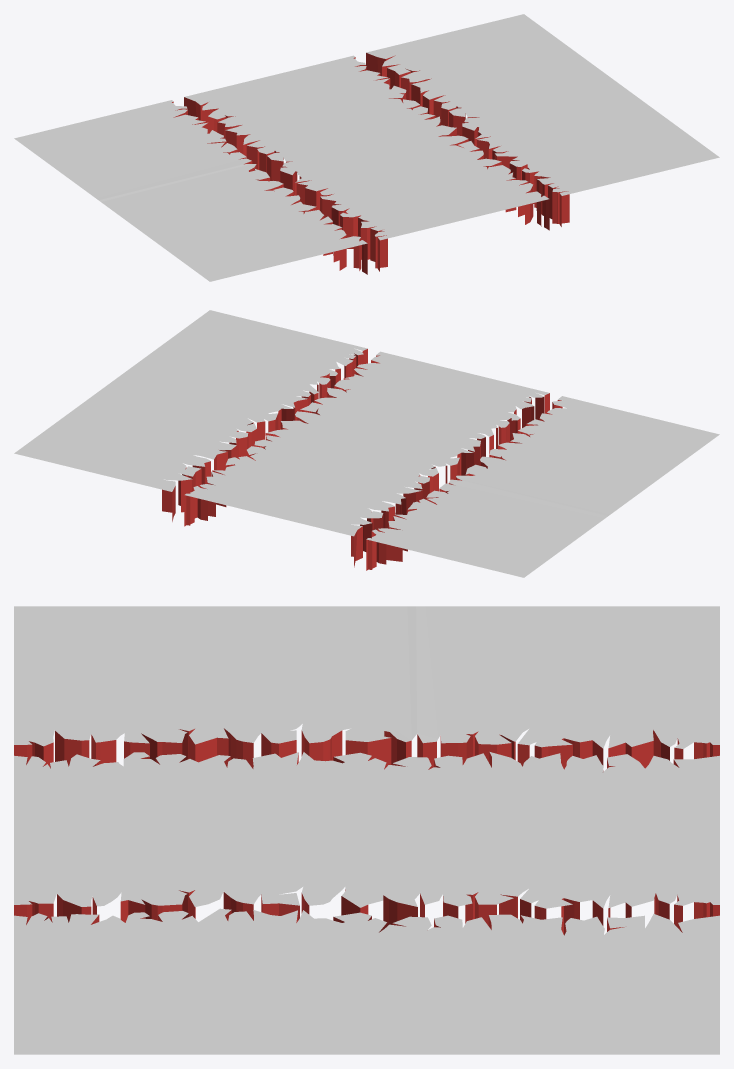
The model's file is lastttic.fbx.
3 views of the same model, one above another, from view 1: azimuth 30°, elevation 25°; view 2: azimuth 150°, elevation 25°; view 3: azimuth 270°, elevation 25° (orthographic). The views are drawn at different scales.
Visible parts, largest first — view 1: Plane.008, Plane.009, Plane.010; view 2: Plane.008, Plane.009, Plane.010; view 3: Plane.008, Plane.010, Plane.009.
Part boxes in pixels (x1,y1,x2,y2): Plane.008: [184, 55, 549, 271]; Plane.009: [366, 14, 719, 226]; Plane.010: [14, 100, 367, 281]; Plane.008: [184, 351, 549, 567]; Plane.009: [14, 310, 367, 521]; Plane.010: [366, 396, 719, 577]; Plane.008: [14, 752, 719, 935]; Plane.010: [14, 606, 719, 771]; Plane.009: [14, 908, 719, 1054].
Size of the model in its own units: 8414 by 505 by 5600.
